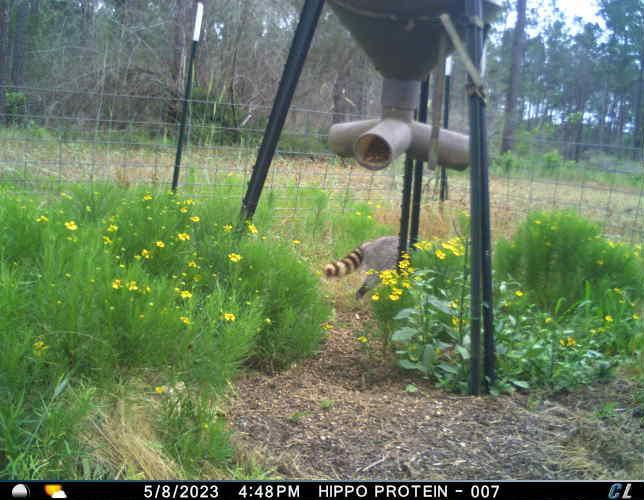Raccoon: (322, 234, 407, 299)
